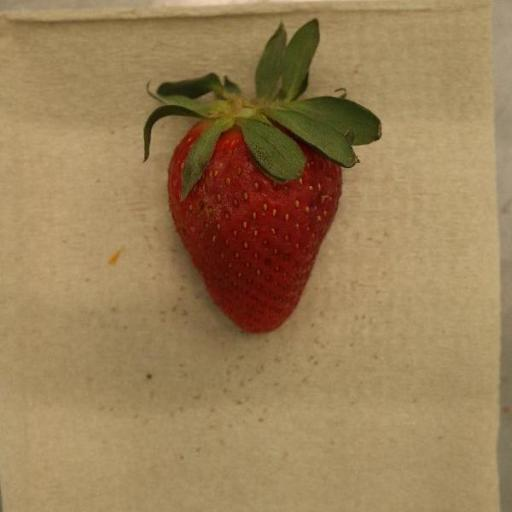Strawberry: (142, 19, 382, 334)
